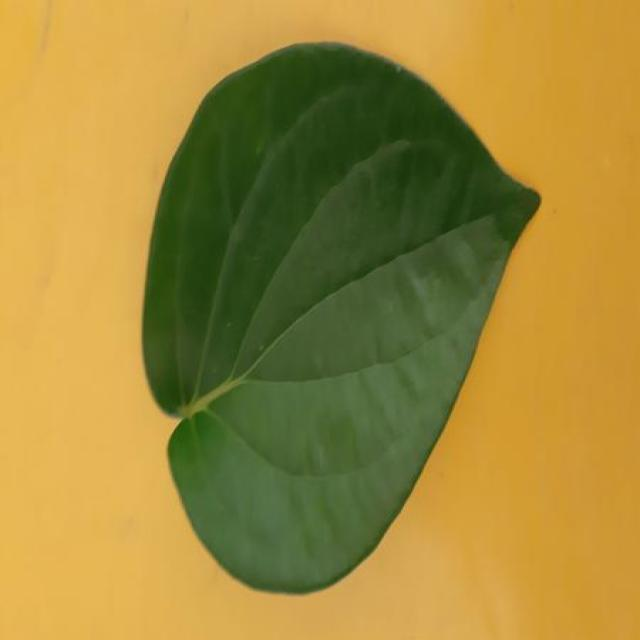betel: (143, 44, 538, 592)
